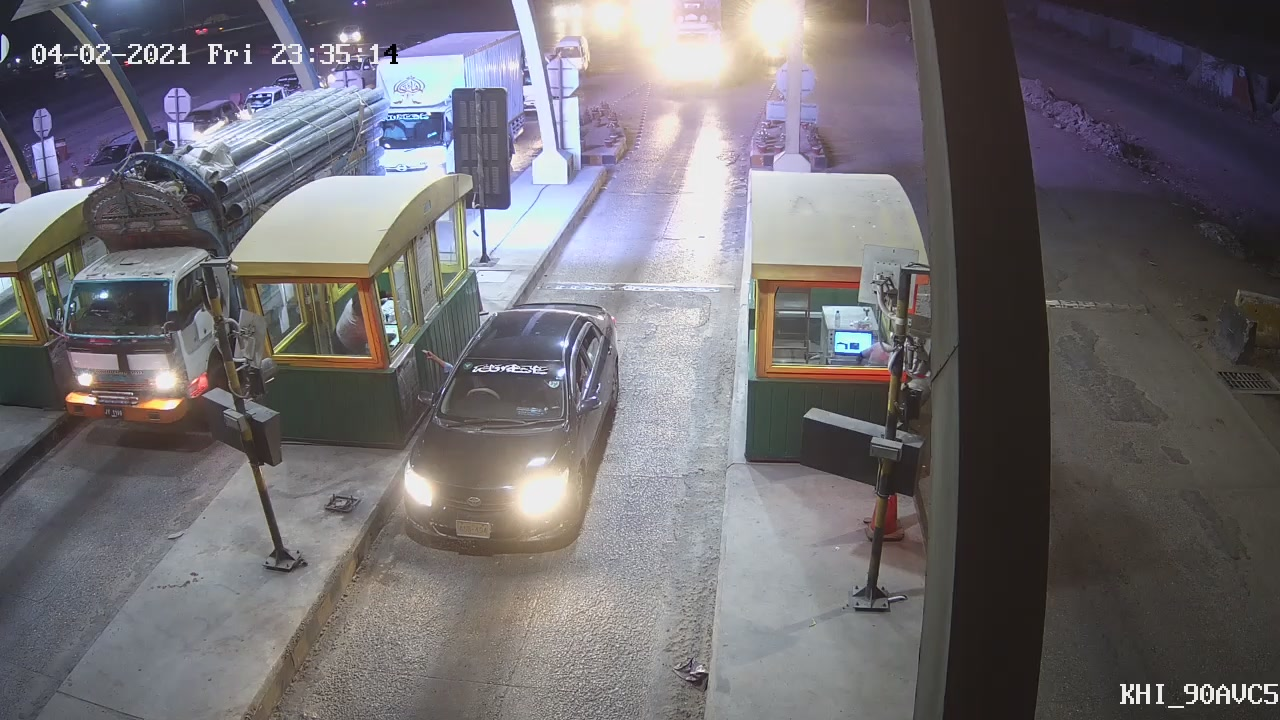F1: (395, 296, 624, 564)
